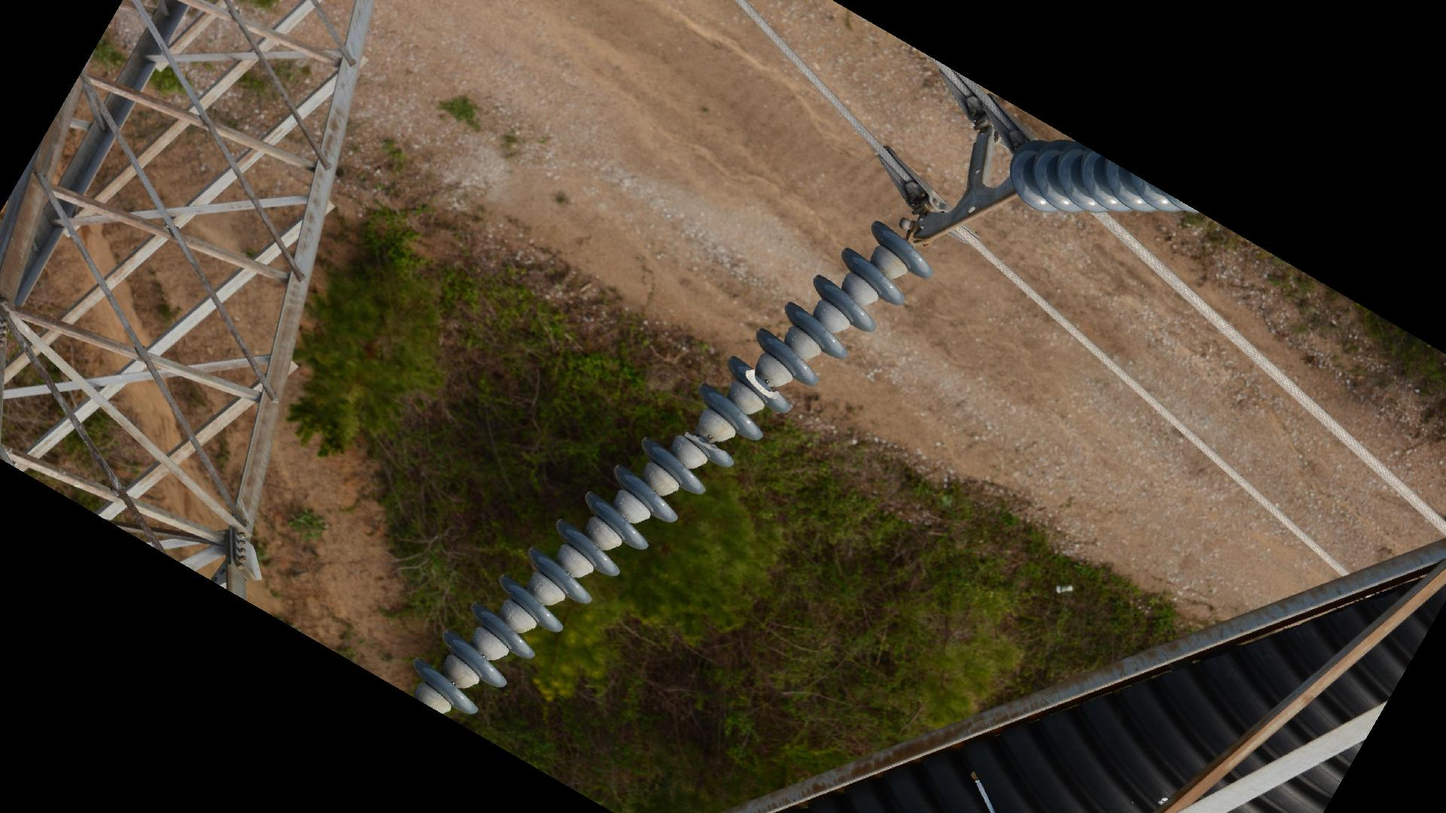insulator: (411, 214, 935, 720), (1006, 135, 1201, 220)
insulator_breakage: (737, 363, 787, 404), (679, 428, 727, 455)
